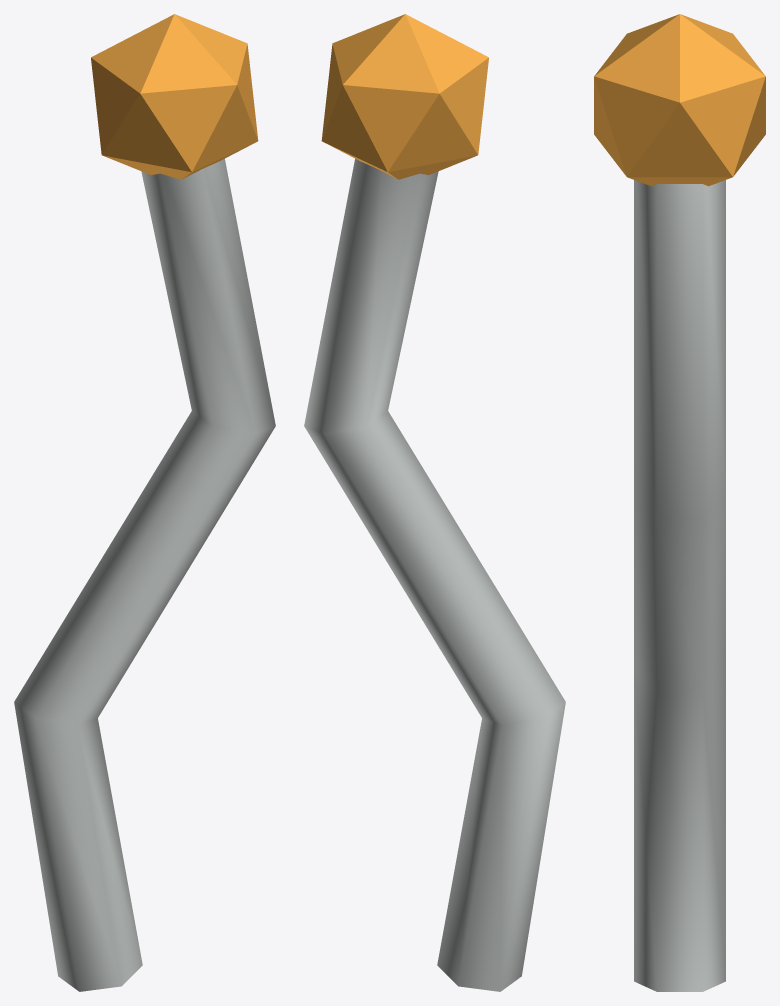
The model's file is Repair_MismatchedAntenna.glb.
3 views of the same model, side by side, from view 1: azimuth 30°, elevation 25°; view 2: azimuth 150°, elevation 25°; view 3: azimuth 270°, elevation 25° (orthographic). The views are drawn at different scales.
Parts seen in each view (by area): view 1: Repair_MismatchedAntenna, Repair_MismatchedAntenna_Tip; view 2: Repair_MismatchedAntenna, Repair_MismatchedAntenna_Tip; view 3: Repair_MismatchedAntenna, Repair_MismatchedAntenna_Tip.
Part boxes in pixels (x1,y1,x2,y2): Repair_MismatchedAntenna: (14,158,275,991); Repair_MismatchedAntenna_Tip: (91,14,258,179); Repair_MismatchedAntenna: (304,158,565,991); Repair_MismatchedAntenna_Tip: (321,14,488,179); Repair_MismatchedAntenna: (634,180,725,991); Repair_MismatchedAntenna_Tip: (594,14,765,186).
Bounding box in the file's own units: 0.3243 × 1.22 × 0.1871.
